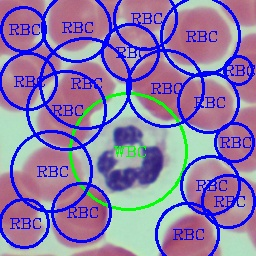RBC: (96, 23, 168, 88), (164, 3, 234, 67), (17, 142, 86, 202), (181, 156, 240, 220), (58, 58, 117, 115), (128, 57, 184, 116), (179, 75, 236, 132), (50, 180, 110, 232), (33, 102, 94, 152), (44, 0, 99, 54), (48, 204, 109, 251), (155, 210, 219, 254), (148, 74, 201, 124), (210, 117, 254, 176), (0, 168, 41, 231), (212, 174, 253, 234), (42, 81, 94, 128), (0, 0, 41, 56), (0, 56, 40, 112), (24, 40, 64, 88), (120, 0, 175, 34), (223, 50, 255, 106), (80, 0, 120, 41)
WBC: (85, 117, 176, 196)
